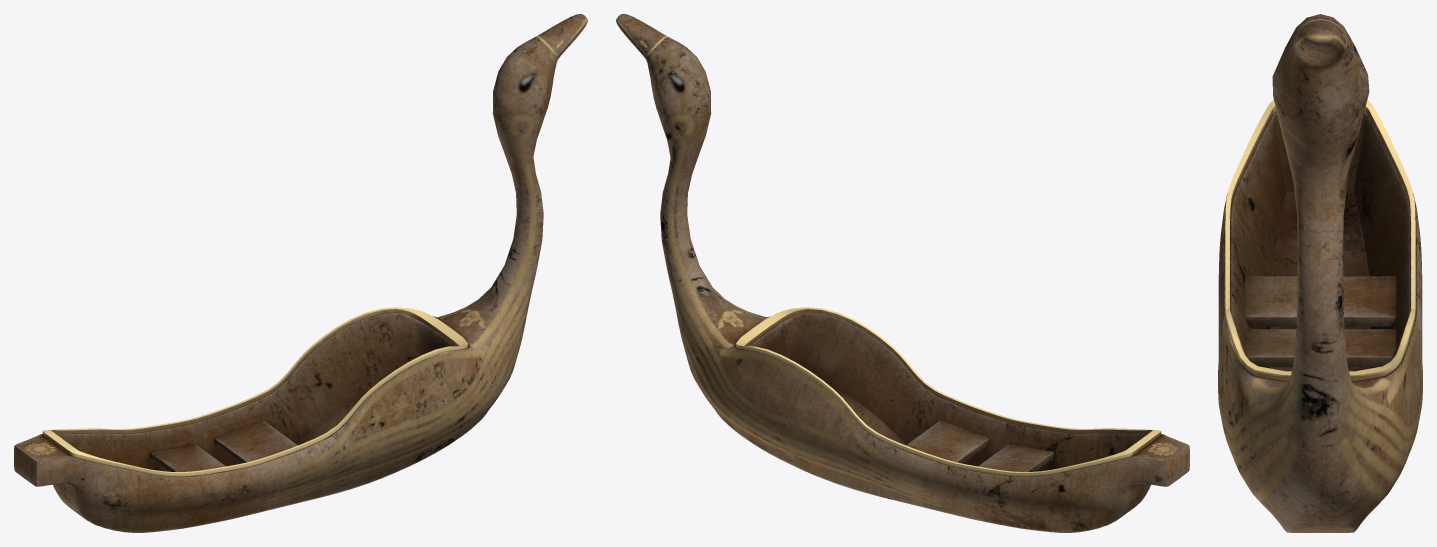
The picture shows the model from 3 angles, left to right: view 1: azimuth 30°, elevation 25°; view 2: azimuth 150°, elevation 25°; view 3: azimuth 270°, elevation 25°; orthographic projection. The views are drawn at different scales.
Visible parts, largest first — view 1: SwanShip_low; view 2: SwanShip_low; view 3: SwanShip_low.
Boxes of the visible parts, x1=… form: SwanShip_low: x1=14, y1=14, x2=587, y2=532; SwanShip_low: x1=616, y1=14, x2=1189, y2=532; SwanShip_low: x1=1218, y1=14, x2=1422, y2=532.
Bounding box in the file's own units: 10.98 × 7.64 × 2.2.
1 material, 1 textured.
